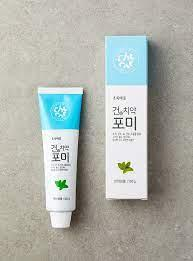toothpaste: (37, 87, 92, 230)
